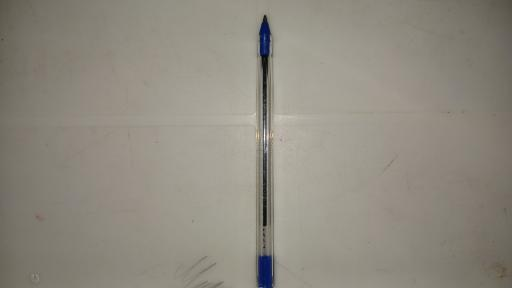pen: (255, 13, 274, 288)
